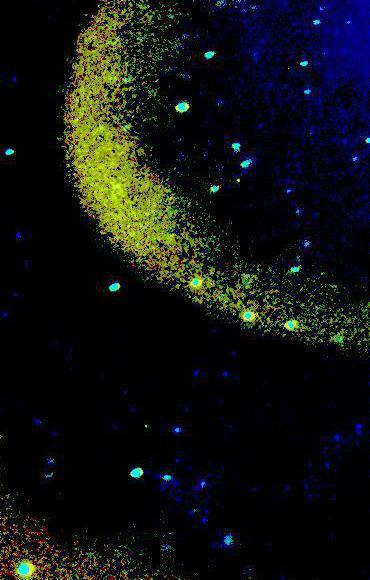star: (130, 409, 160, 439)
